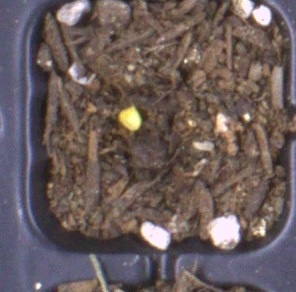chilli seed: (117, 104, 142, 132)
